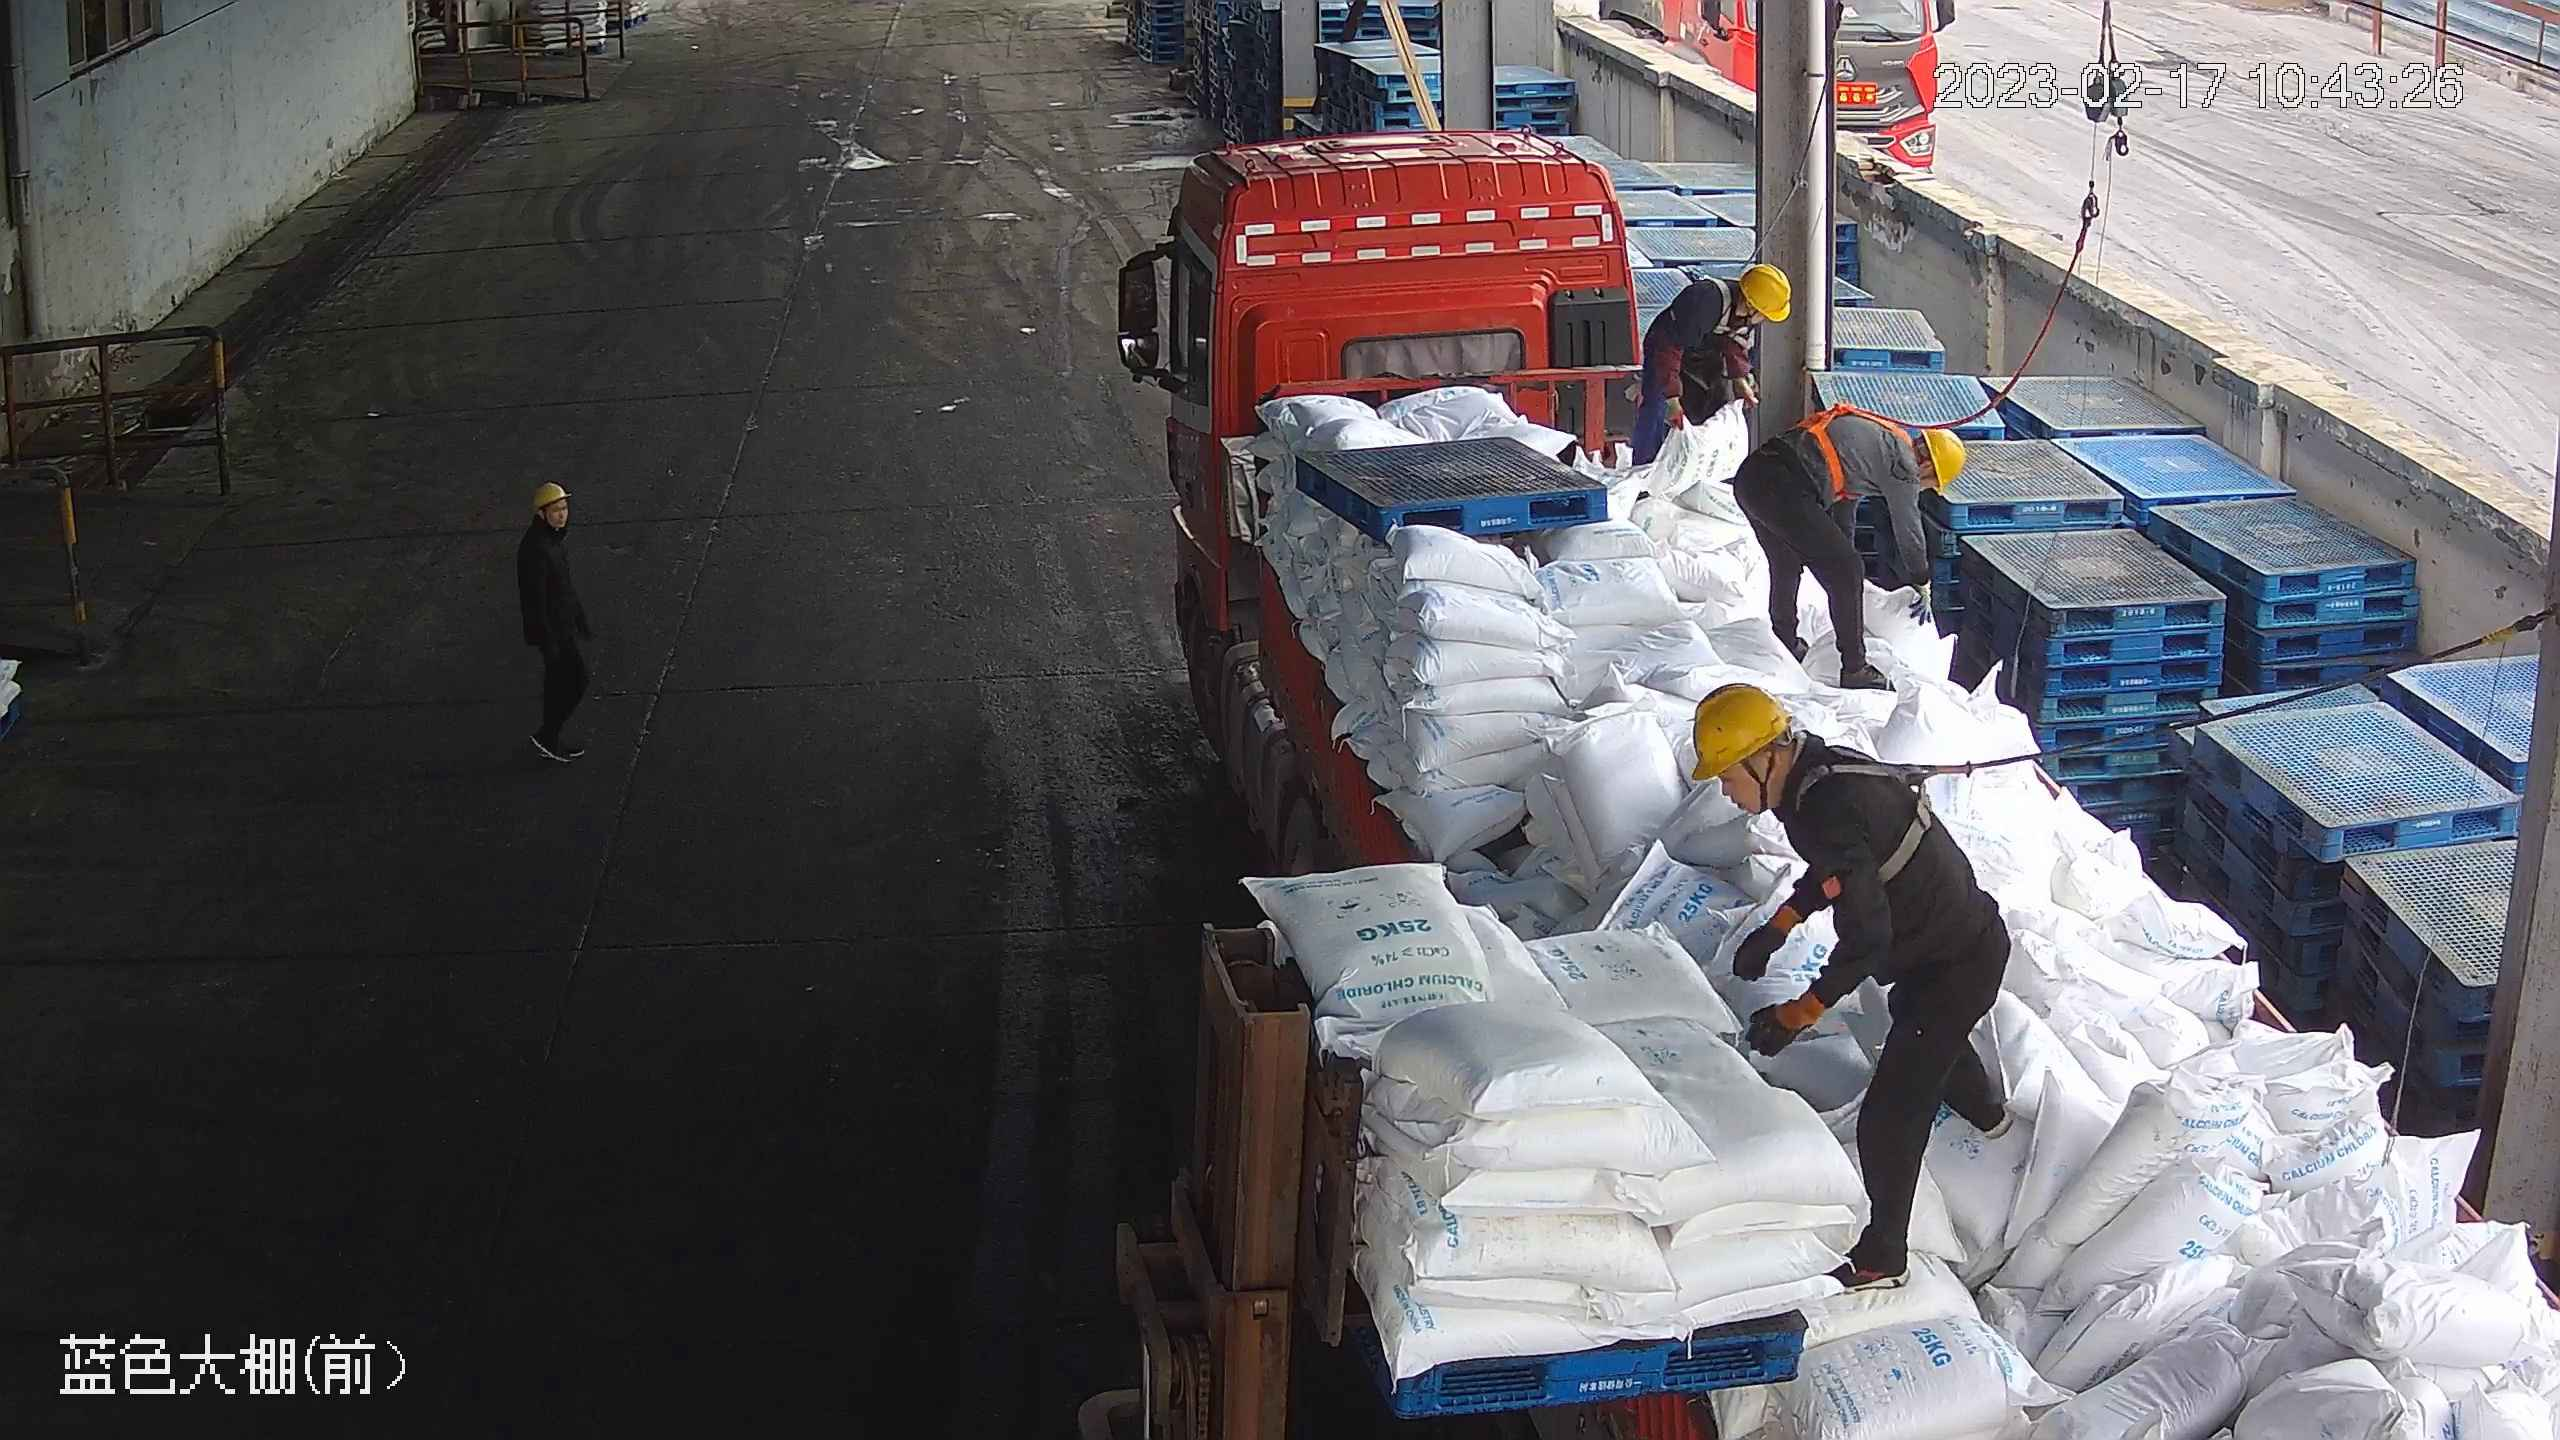belt: (1804, 741, 1956, 890), (1806, 399, 1908, 495), (1696, 268, 1759, 351)
head: (1686, 679, 1908, 848), (1835, 410, 1968, 511), (1677, 261, 1792, 347), (517, 481, 576, 559)
helmet: (1688, 680, 1794, 778), (1918, 422, 1969, 496), (1736, 258, 1792, 325), (530, 481, 571, 511)
people: (1692, 676, 2026, 1300), (1734, 405, 1972, 689), (1623, 259, 1796, 471), (515, 477, 601, 764)
truck: (1103, 120, 2546, 1440)
